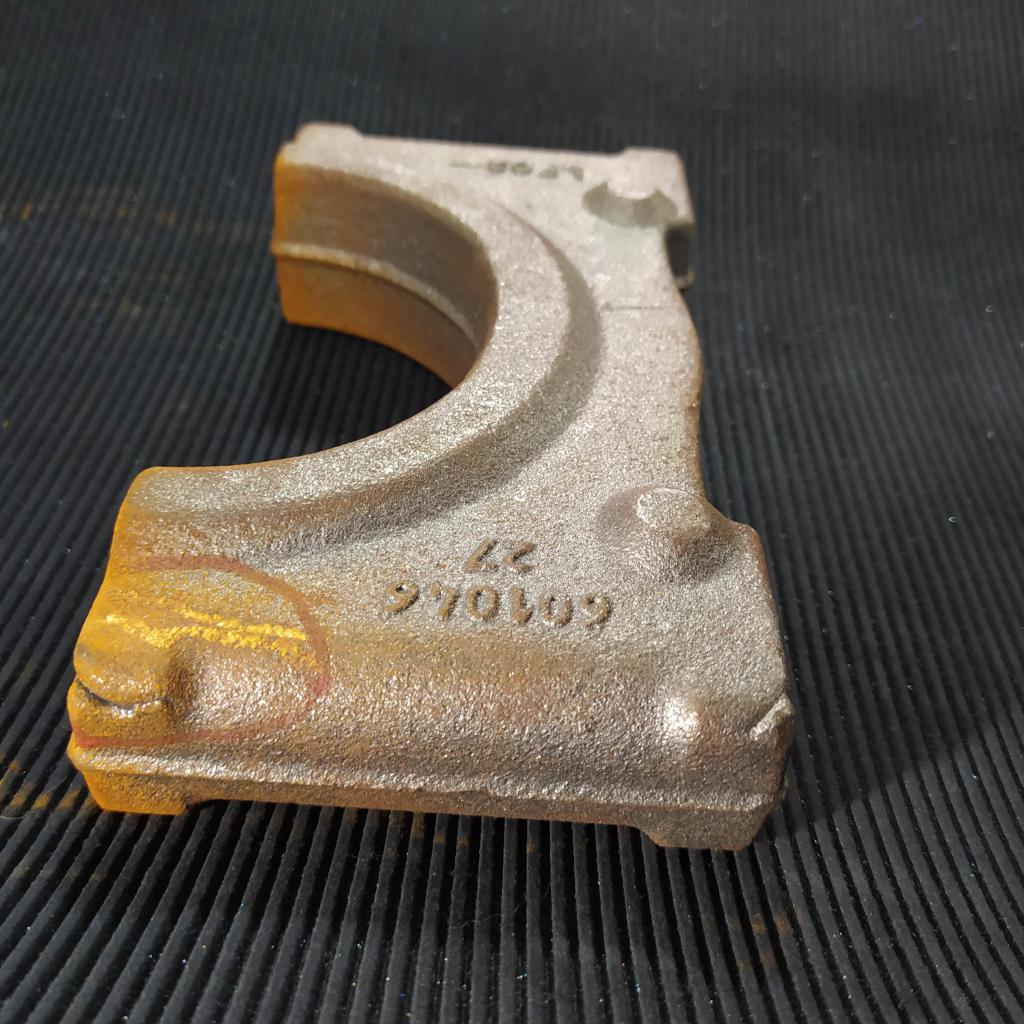rechupe: (74, 674, 174, 713), (739, 689, 793, 737)
